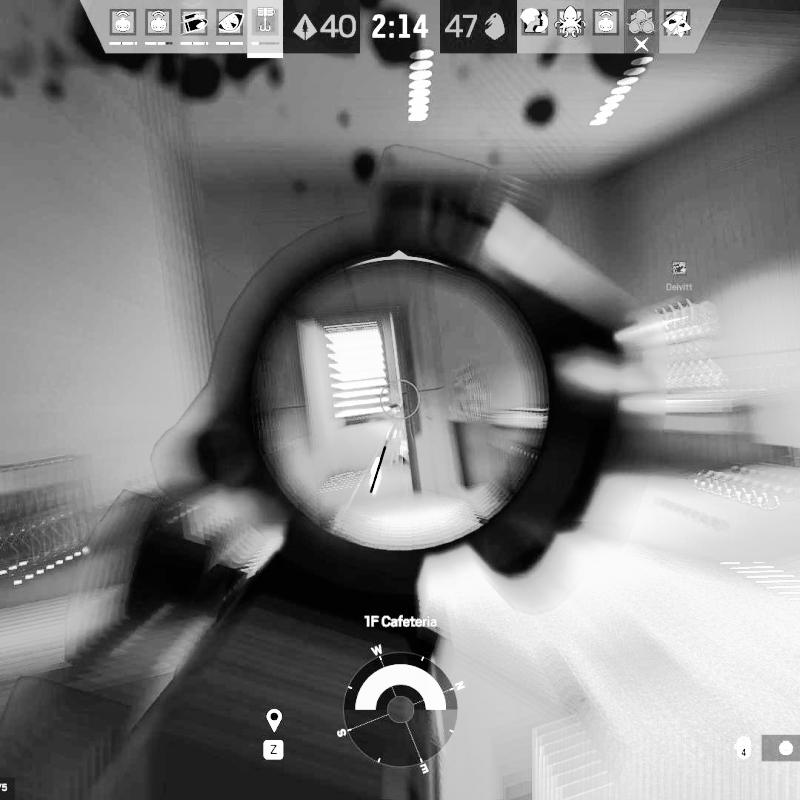Character: (387, 403, 409, 471)
Friend_label: (664, 259, 697, 292)
Head: (392, 404, 403, 417)
